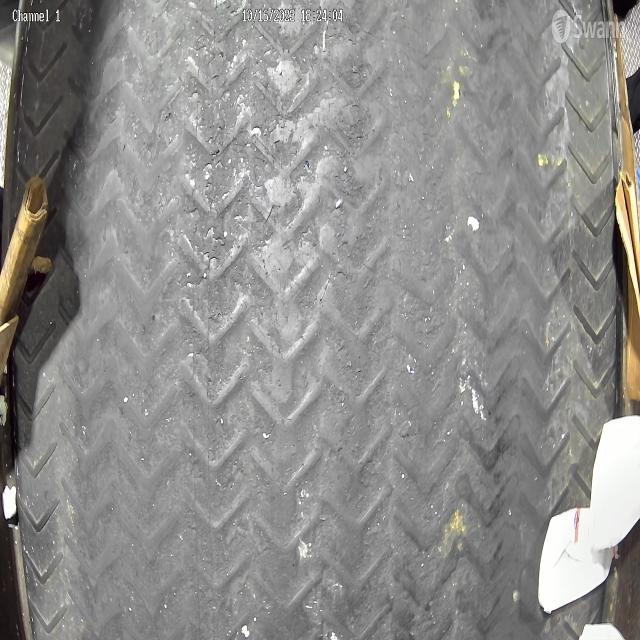milk_jug: (538, 508, 619, 613), (589, 414, 640, 550)
